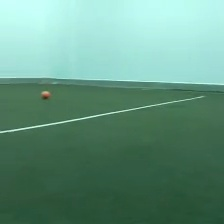ball: (40, 88, 51, 99)
